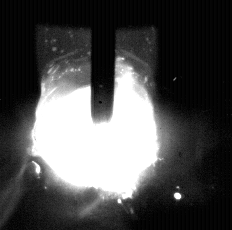arame: (91, 0, 116, 124)
poca: (30, 0, 158, 230)
